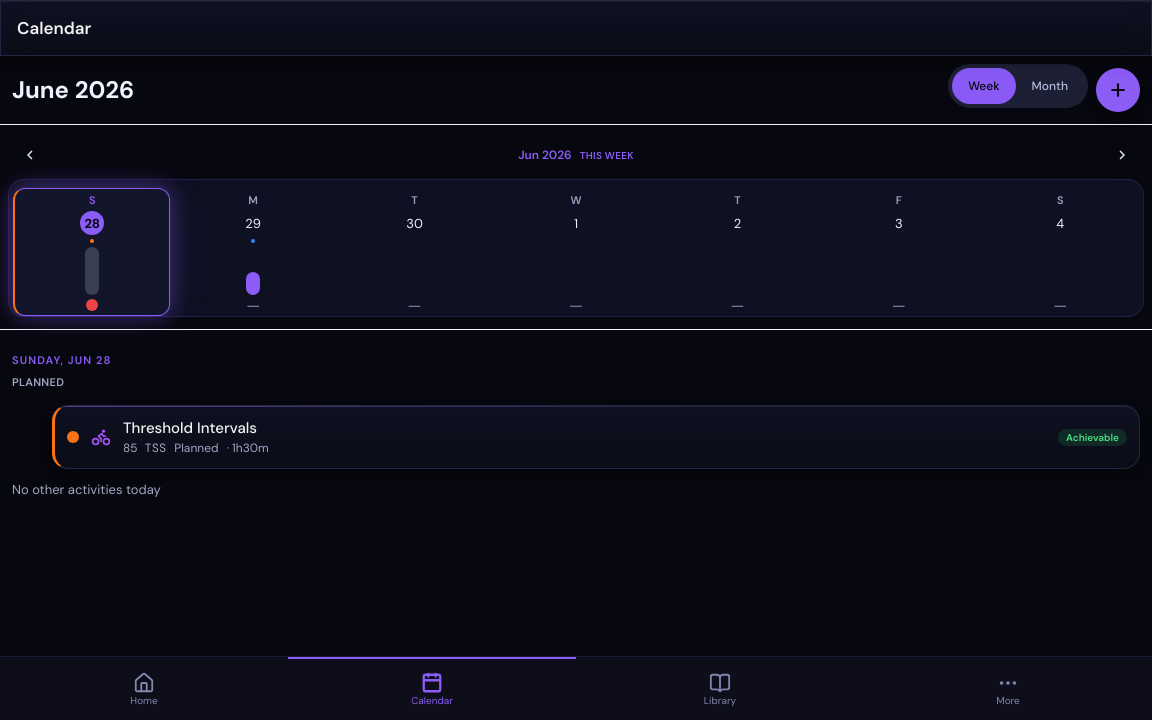
Test: Calendar screen › (e) tapping a list row opens the activity detail drawer
Expected: the element with test id "day-list" is shown, [12, 353, 1140, 498]
Click the button "Threshold Intervals 85 TSS Planned · 1h30m Achievable". click: (190, 428)
box: [55, 406, 1139, 468]
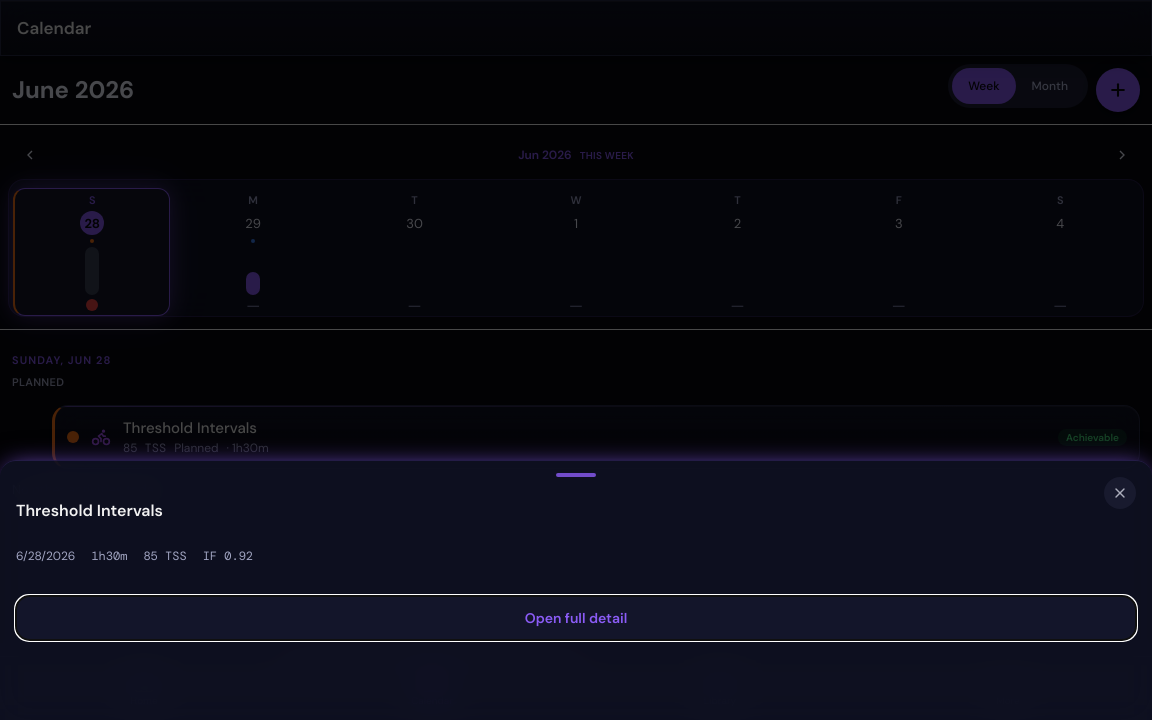
Expected: the button "Open full detail" is shown, [16, 596, 1136, 640]
